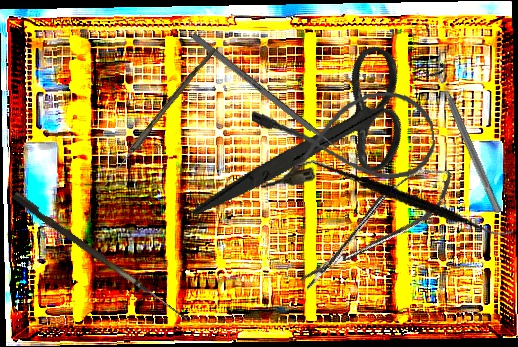Cannula: (250, 87, 439, 193)
Fixation Ring: (422, 61, 510, 218)
Hook Surgical: (9, 191, 194, 321)
Iris Scissors: (189, 4, 435, 283)
Micro Scissor: (287, 155, 465, 299)
Pusher: (190, 32, 357, 165)
Spatula Surgical: (294, 122, 514, 277)
Surgical Spoon: (99, 44, 217, 192)
